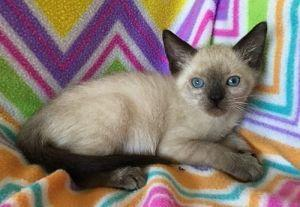siamese: (159, 16, 274, 130)
